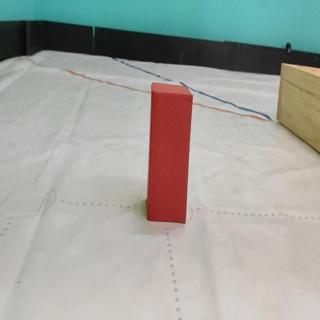redbox: (147, 81, 193, 224)
